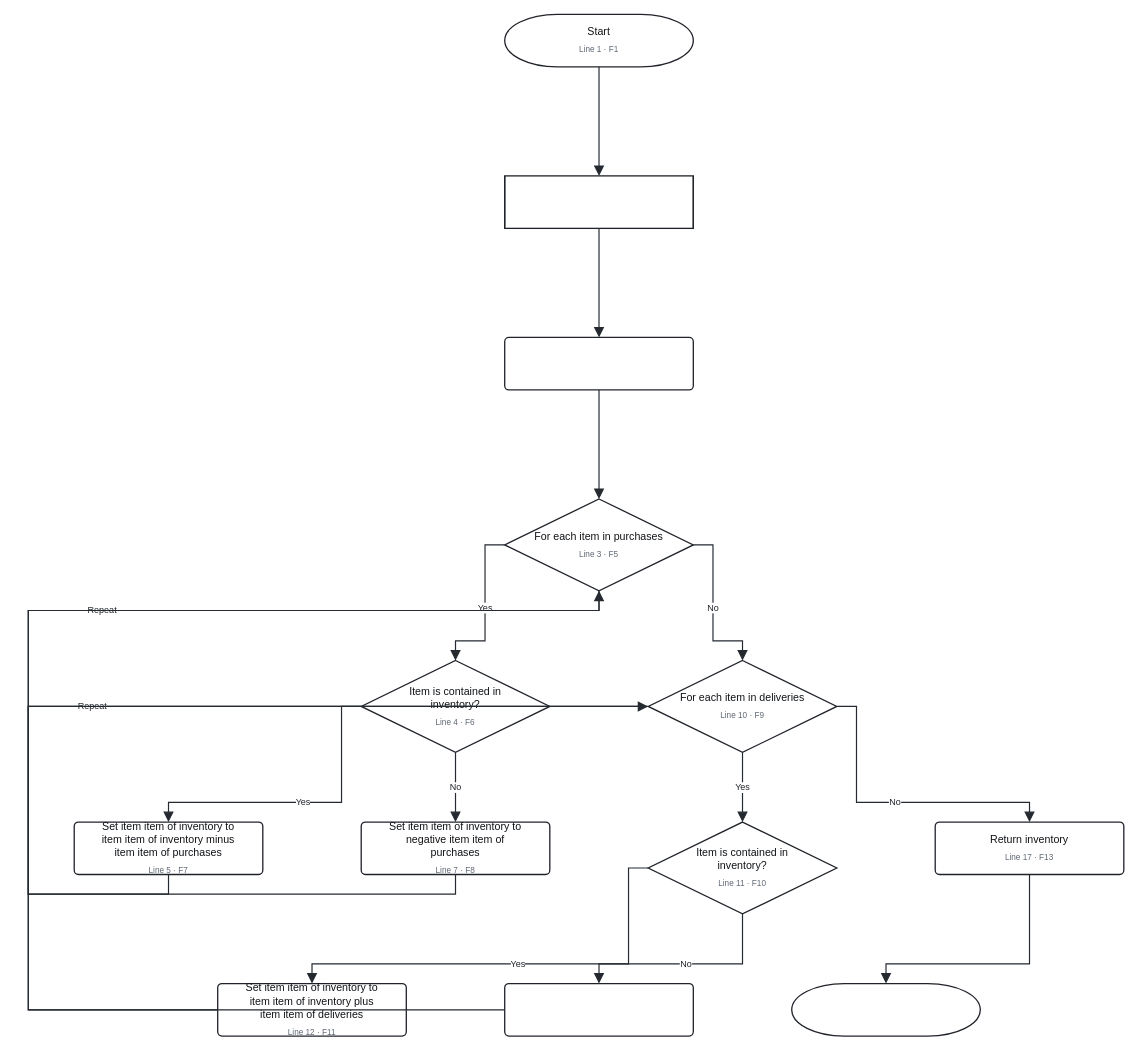
Some shapes in this 1139 by 1053 pixel diagram are drawn without their labels. Each missing label, with the centre of its shape:
"End Line 1 · F2" belongs at pixel 886 1009.
"Run function UPDATE_INVENTORY with purchases, deliveries Line 1 · F3" belongs at pixel 599 202.
"Set inventory to an empty list Line 2 · F4" belongs at pixel 599 363.
"Set item item of inventory to item item of deliveries Line 14 · F12" belongs at pixel 599 1009.
